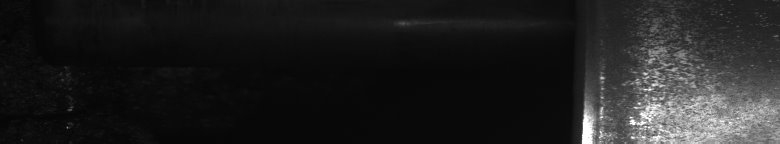kb: (600, 4, 768, 136)
